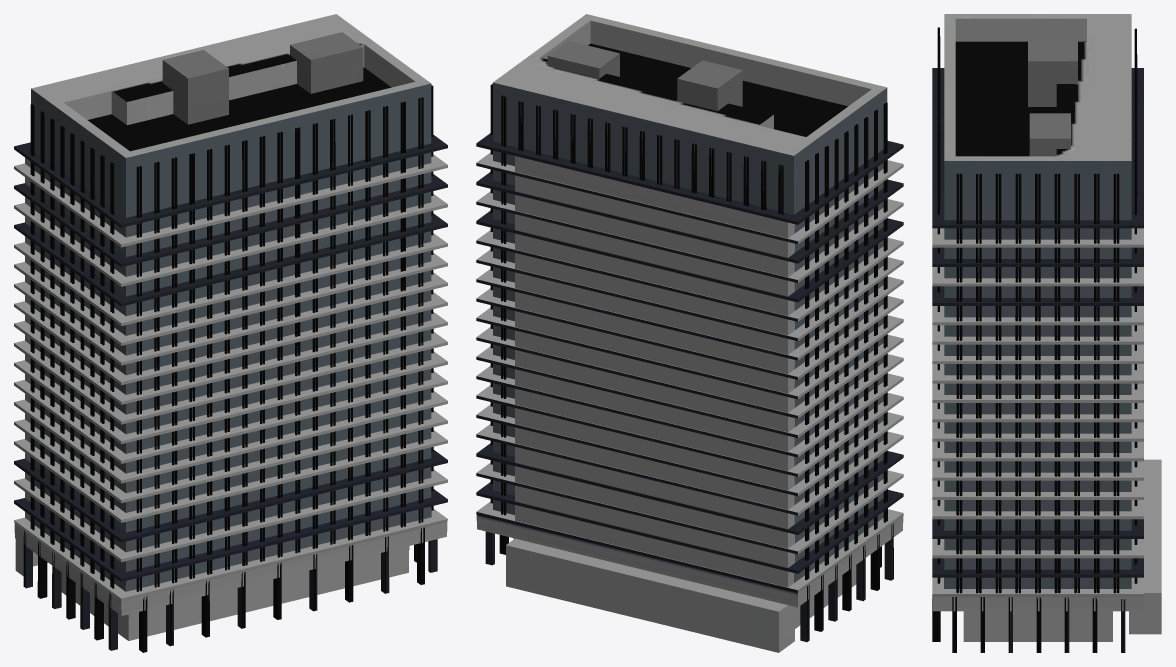
File: ribbed_tower_lod1.glb
3 renders of one model, left to right at view 1: azimuth 30°, elevation 25°; view 2: azimuth 150°, elevation 25°; view 3: azimuth 270°, elevation 25°, orthographic.
Parts seen in each view (by area): view 1: ribbed_tower; view 2: ribbed_tower; view 3: ribbed_tower.
Boxes of the visible parts, <box> form: ribbed_tower: <box>14,14,447,652</box>; ribbed_tower: <box>476,14,903,652</box>; ribbed_tower: <box>932,14,1161,652</box>.
Bounding box in the file's own units: 69.55 × 105 × 42.8.
Materials: 1 (1 with a texture image).
